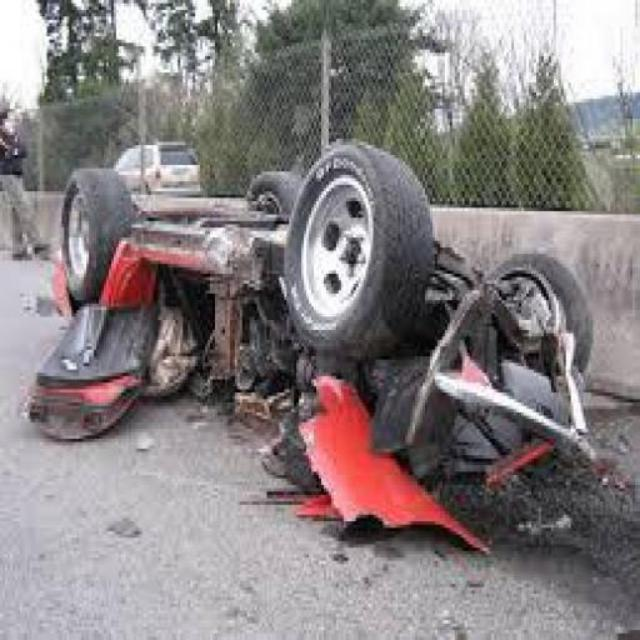crash: (29, 201, 579, 556)
